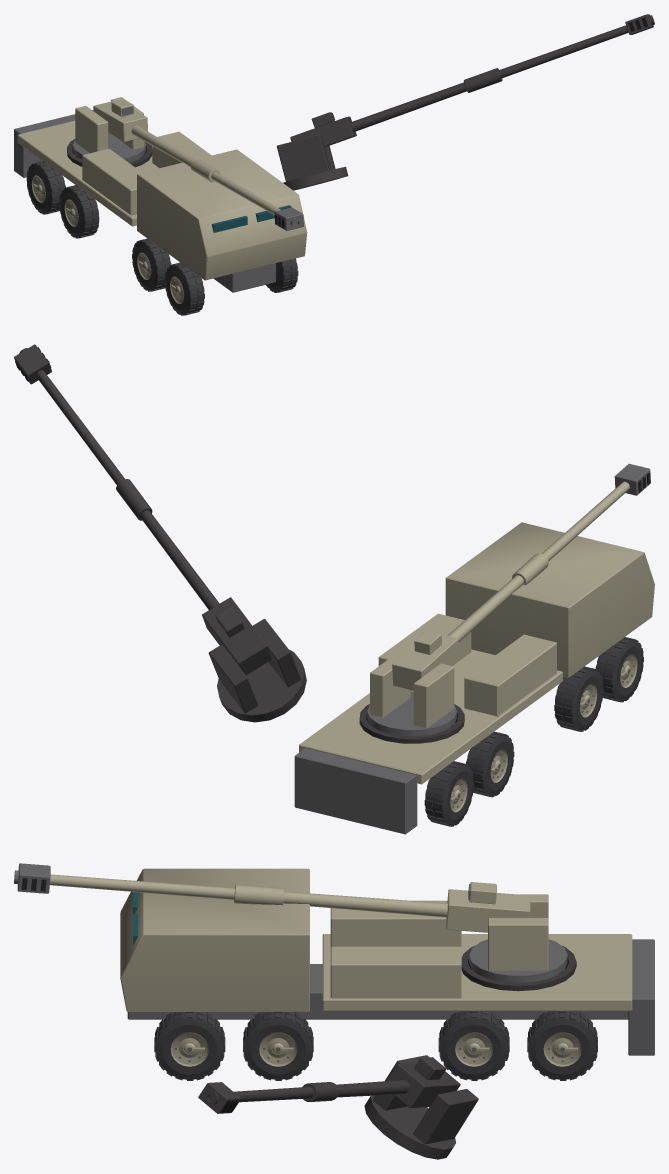
The model's file is wheeledHowitzer__2s43_malva.glb.
3 views of the same model, one above another, from view 1: azimuth 30°, elevation 25°; view 2: azimuth 150°, elevation 25°; view 3: azimuth 270°, elevation 25° (orthographic). The views are drawn at different scales.
Visible parts, largest first — view 1: Hull_Mesh, Wreck, Gun_Mesh, Turret_Mesh, Wheel_L1_Mesh, Wheel_L3_Mesh, Wheel_L0_Mesh, Wheel_L2_Mesh, Wheel_R3_Mesh; view 2: Hull_Mesh, Wreck, Gun_Mesh, Turret_Mesh, Wheel_L0_Mesh, Wheel_L2_Mesh, Wheel_L1_Mesh, Wheel_L3_Mesh; view 3: Hull_Mesh, Wreck, Gun_Mesh, Turret_Mesh, Wheel_R1_Mesh, Wheel_R0_Mesh, Wheel_R3_Mesh, Wheel_R2_Mesh.
Part boxes in pixels (left/top/right/bottom): Hull_Mesh: left=14, top=109, right=307, bottom=292; Wreck: left=44, top=14, right=654, bottom=313; Gun_Mesh: left=93, top=99, right=303, bottom=230; Turret_Mesh: left=73, top=97, right=146, bottom=162; Wheel_L1_Mesh: left=59, top=185, right=99, bottom=238; Wheel_L3_Mesh: left=165, top=262, right=204, bottom=315; Wheel_L0_Mesh: left=26, top=161, right=65, bottom=214; Wheel_L2_Mesh: left=132, top=238, right=171, bottom=291; Wheel_R3_Mesh: left=266, top=258, right=298, bottom=292; Hull_Mesh: left=294, top=522, right=654, bottom=834; Wreck: left=14, top=344, right=633, bottom=826; Gun_Mesh: left=392, top=463, right=650, bottom=690; Turret_Mesh: left=367, top=653, right=456, bottom=736; Wheel_L0_Mesh: left=424, top=761, right=473, bottom=826; Wheel_L2_Mesh: left=554, top=666, right=603, bottom=731; Wheel_L1_Mesh: left=466, top=731, right=514, bottom=797; Wheel_L3_Mesh: left=595, top=637, right=643, bottom=702; Hull_Mesh: left=120, top=868, right=654, bottom=1055; Wreck: left=161, top=945, right=591, bottom=1159; Gun_Mesh: left=14, top=863, right=530, bottom=932; Turret_Mesh: left=469, top=894, right=567, bottom=982; Wheel_R1_Mesh: left=438, top=1011, right=509, bottom=1080; Wheel_R0_Mesh: left=527, top=1011, right=597, bottom=1080; Wheel_R3_Mesh: left=154, top=1012, right=225, bottom=1080; Wheel_R2_Mesh: left=243, top=1012, right=313, bottom=1080.
Size of what is drawn, in the model's own units: 12.01 by 4.2 by 10.14.
